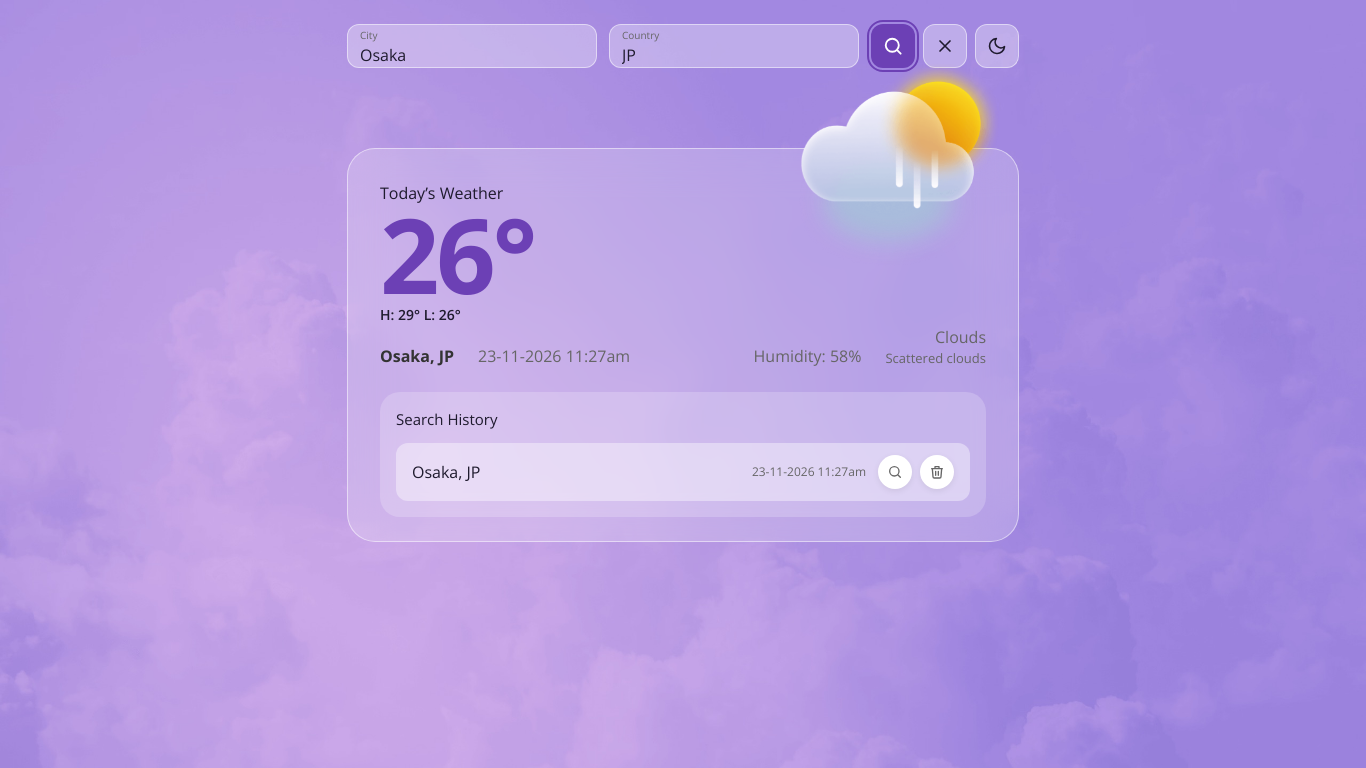
Scenario: App › can search again and delete from history
Earlier steps of the test are not shown.
Later steps or results of the test are not shown.
Check: the text "Osaka, JP" in the row of "Humidity:" is shown, box [380,345,454,367]
Clear the field labelled "City" at (472, 53), box [360,40,584,67]
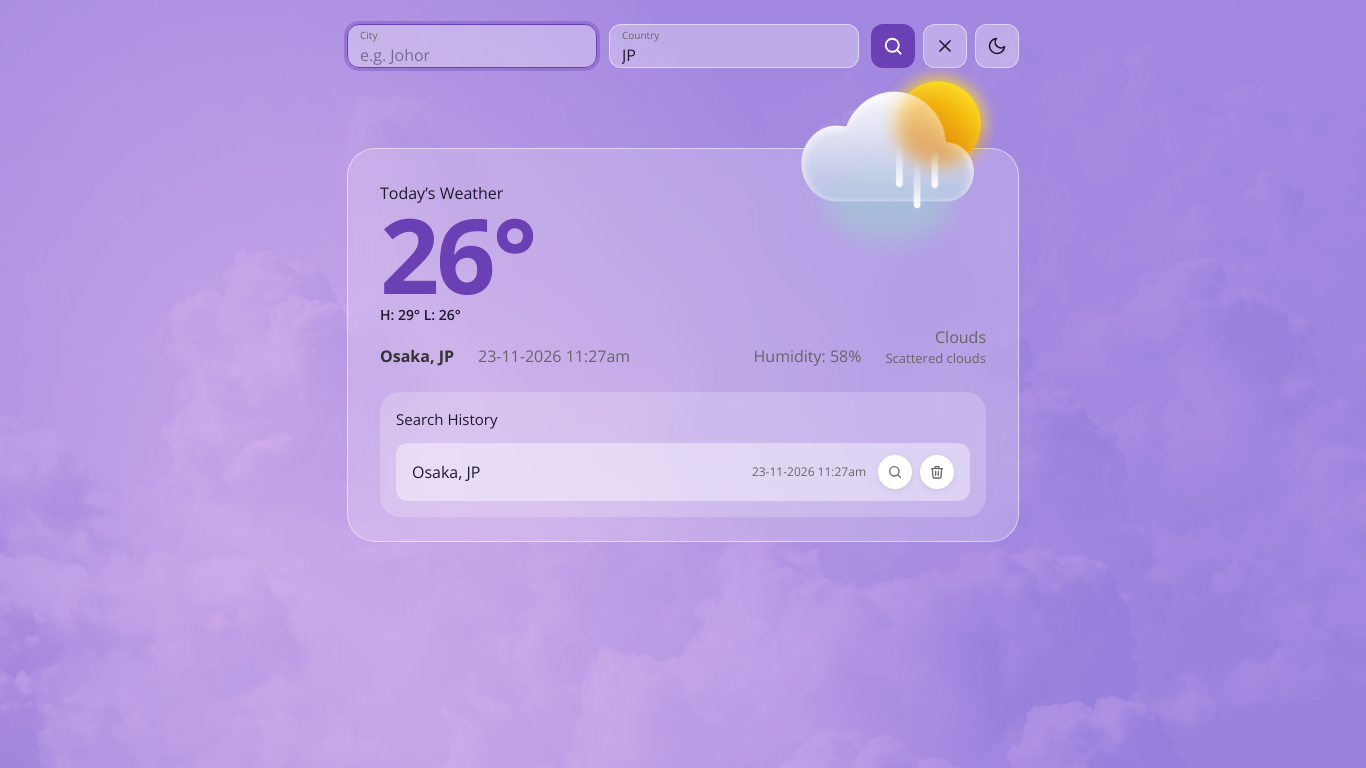
Clear the field labelled "Country" at (734, 53), box [622,40,846,67]
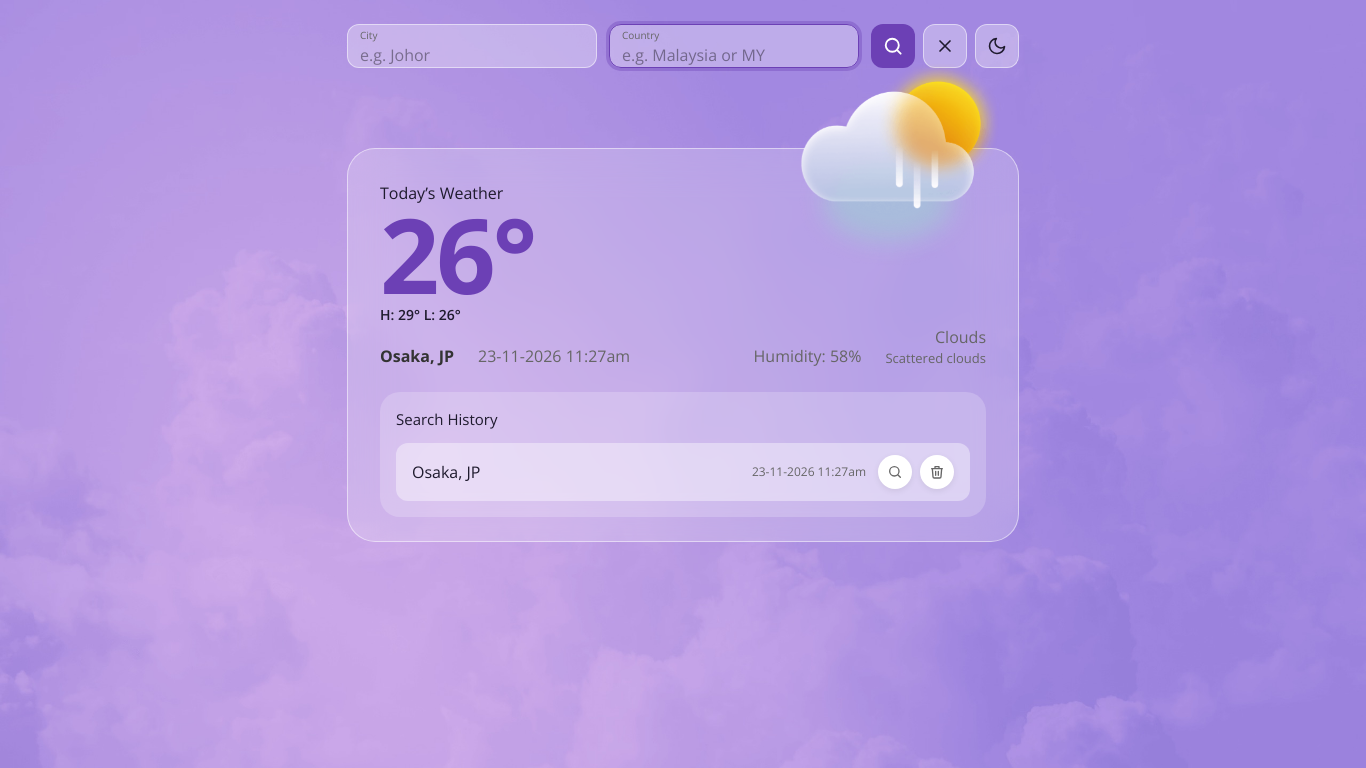
Type "Johor" into the field labelled "City" at (472, 53), box [360,40,584,67]
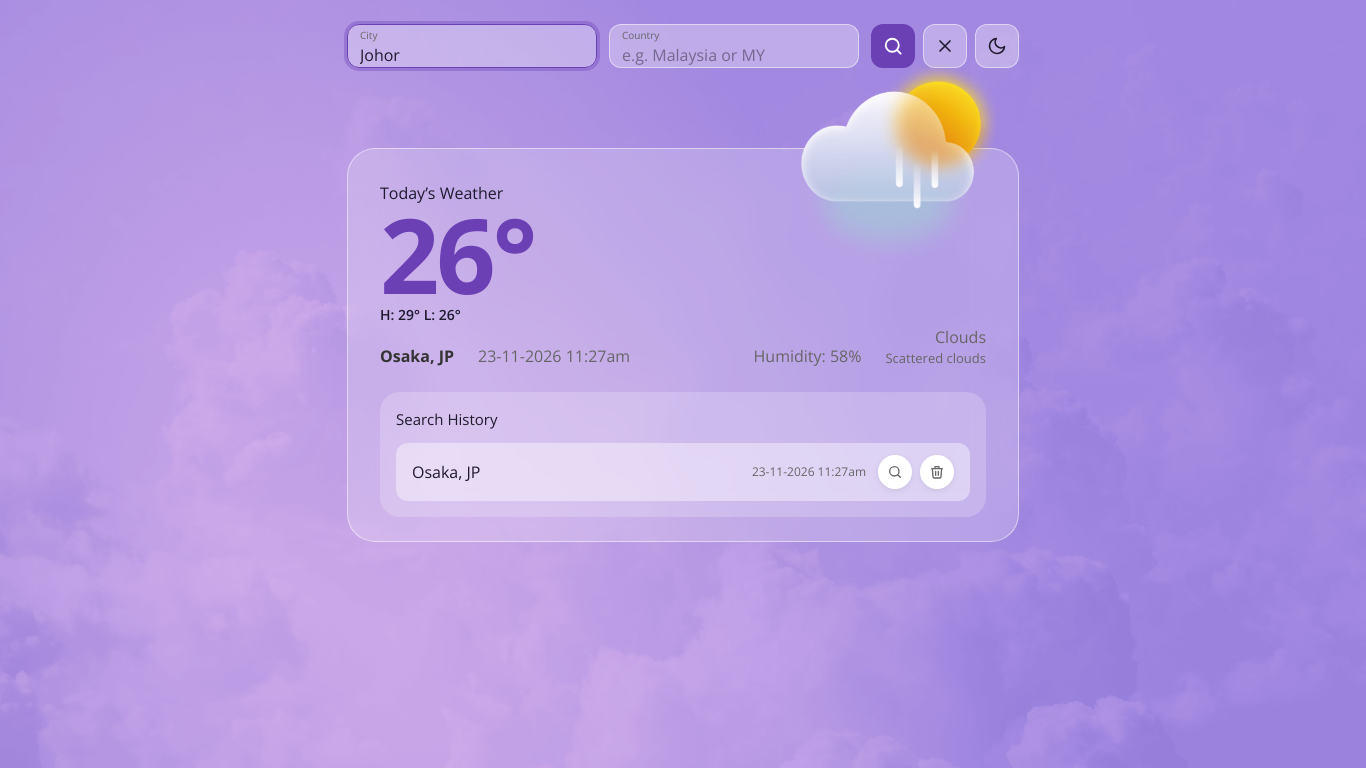
Type "MY" into the field labelled "Country" at (734, 53), box [622,40,846,67]
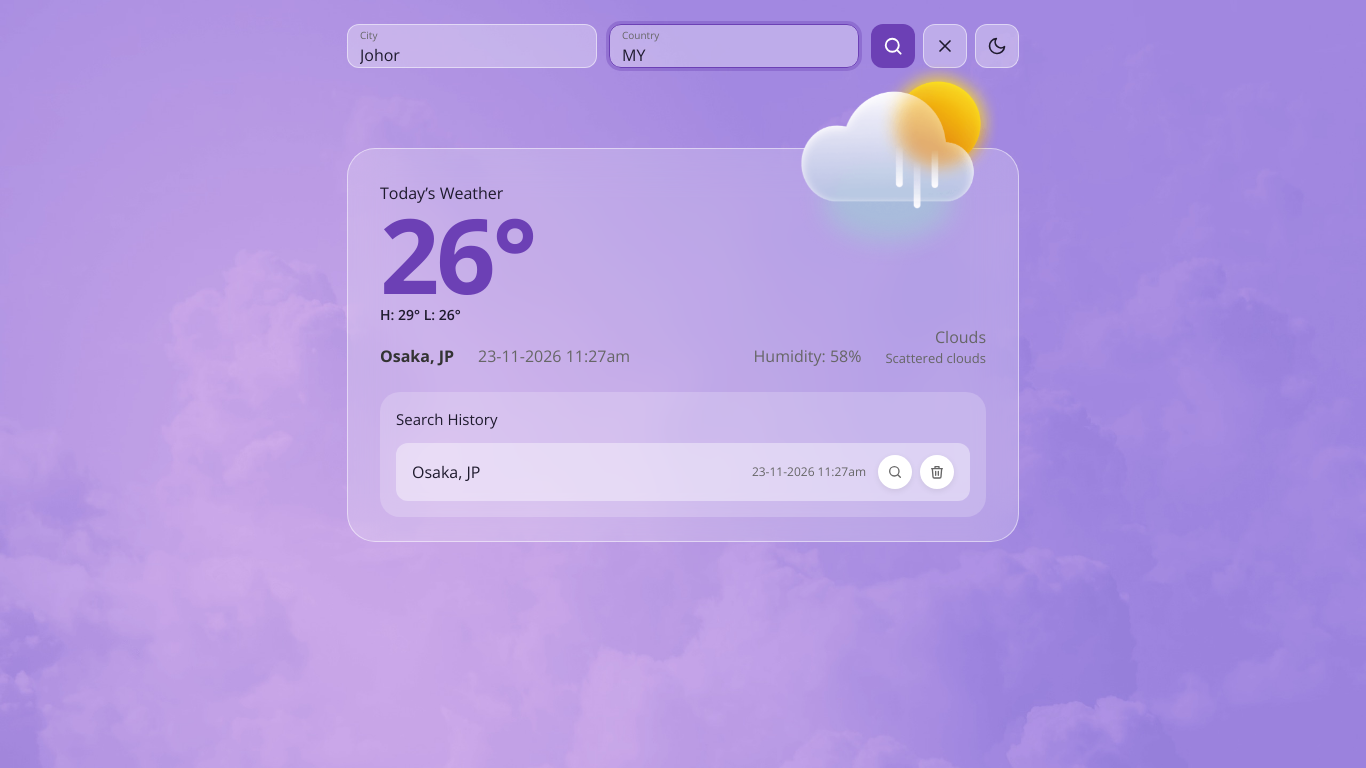
Click the button named "Search" at (893, 46), box [871,24,915,68]
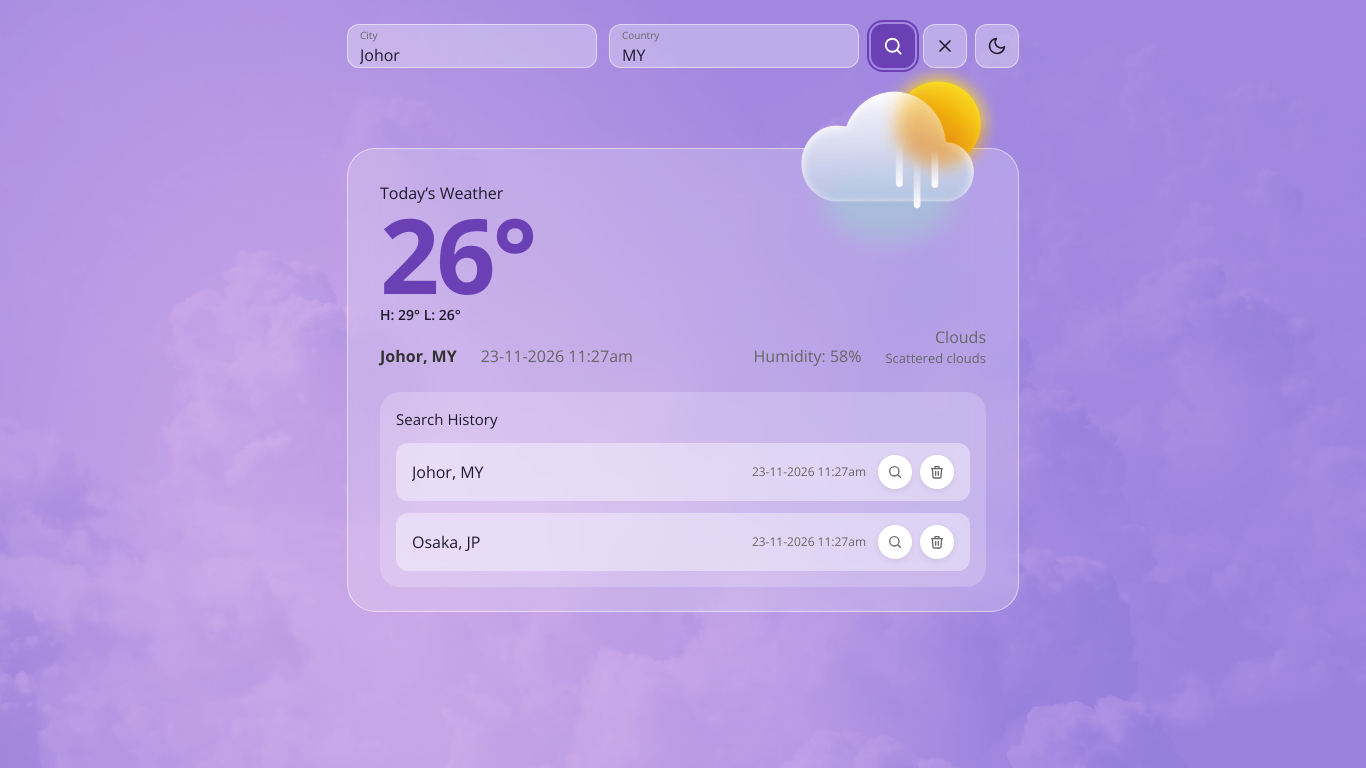
Check: the text "Johor, MY" in the row of "Humidity:" is shown, box [380,345,457,367]
Click the button named "Search Osaka, JP again" at (895, 542), box [878,525,912,559]
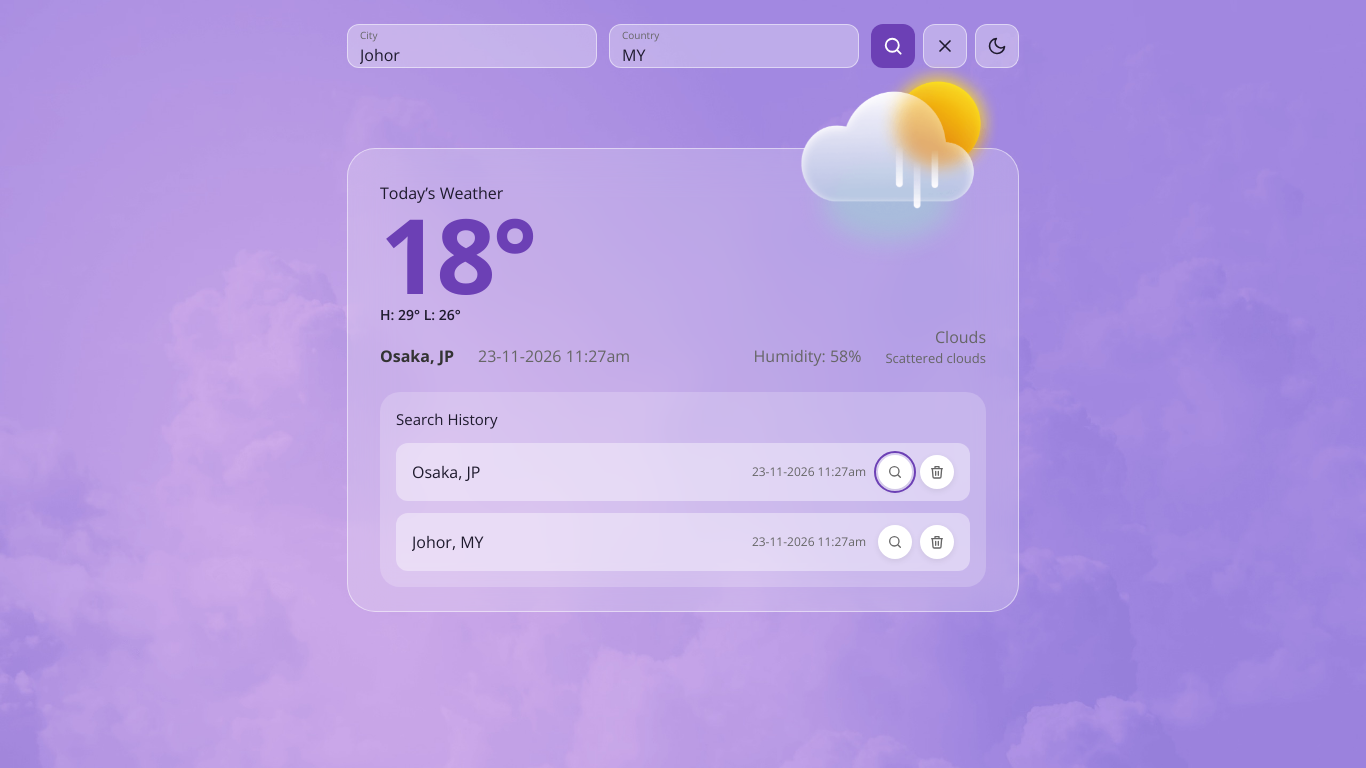
Check: the text "18°" is shown, box [380,182,596,324]
